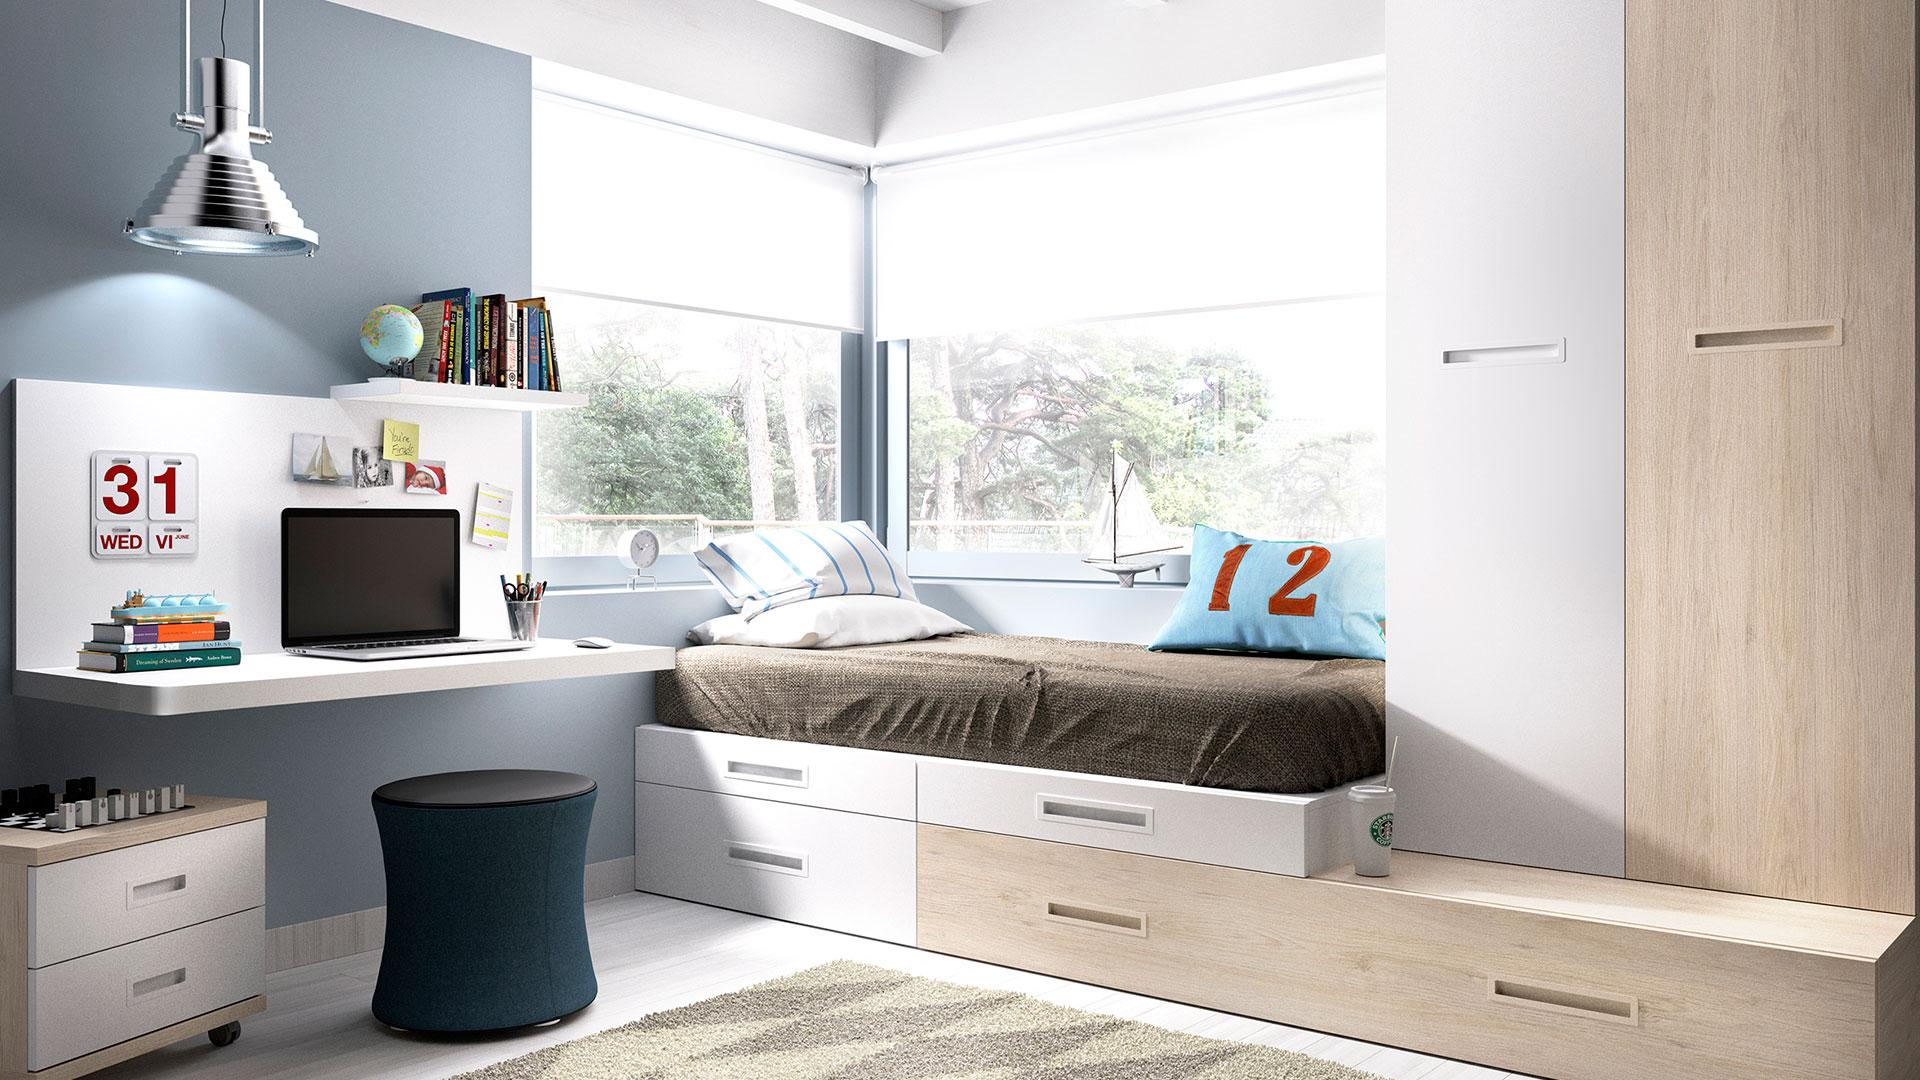bed: (662, 535, 1367, 793)
